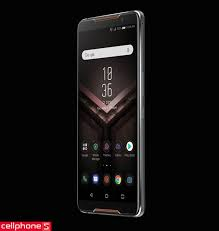asus: (72, 7, 149, 221)
